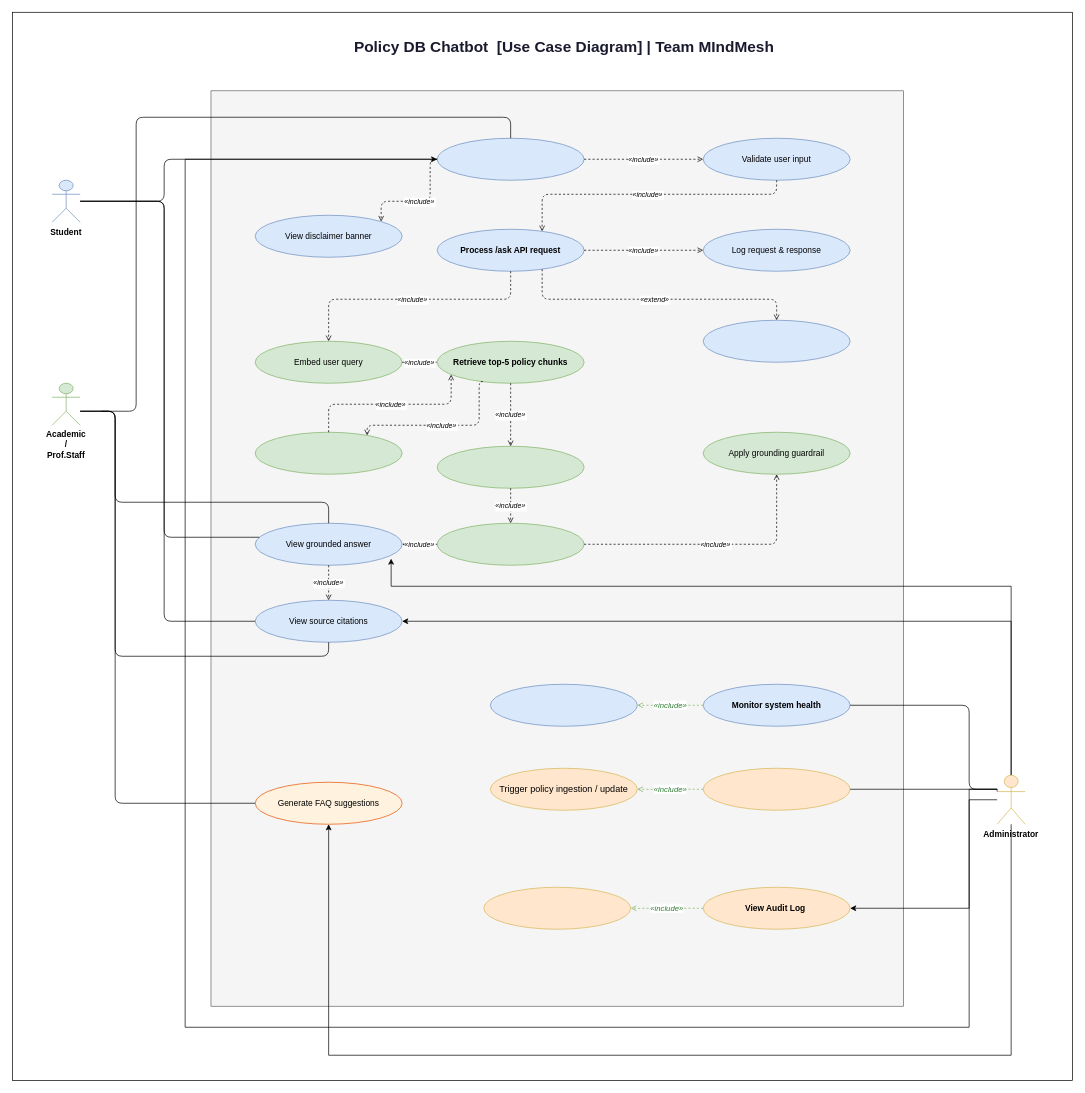
This 1085x1093 diagram has some shape labels left out. The shapes that lost their labels are listed below. From the top down, each one's centre as x and y in pixels, then its label:
At (510,159): "Ask policy question".
At (776,341): "Trigger fallback & escalation".
At (328,453): "Execute hybrid search".
At (510,467): "Inject context into prompt".
At (510,544): "Generate grounded LLM response".
At (563,705): "View system status report".
At (776,789): "Manage policy documents".
At (557,908): "View system audit reports".
